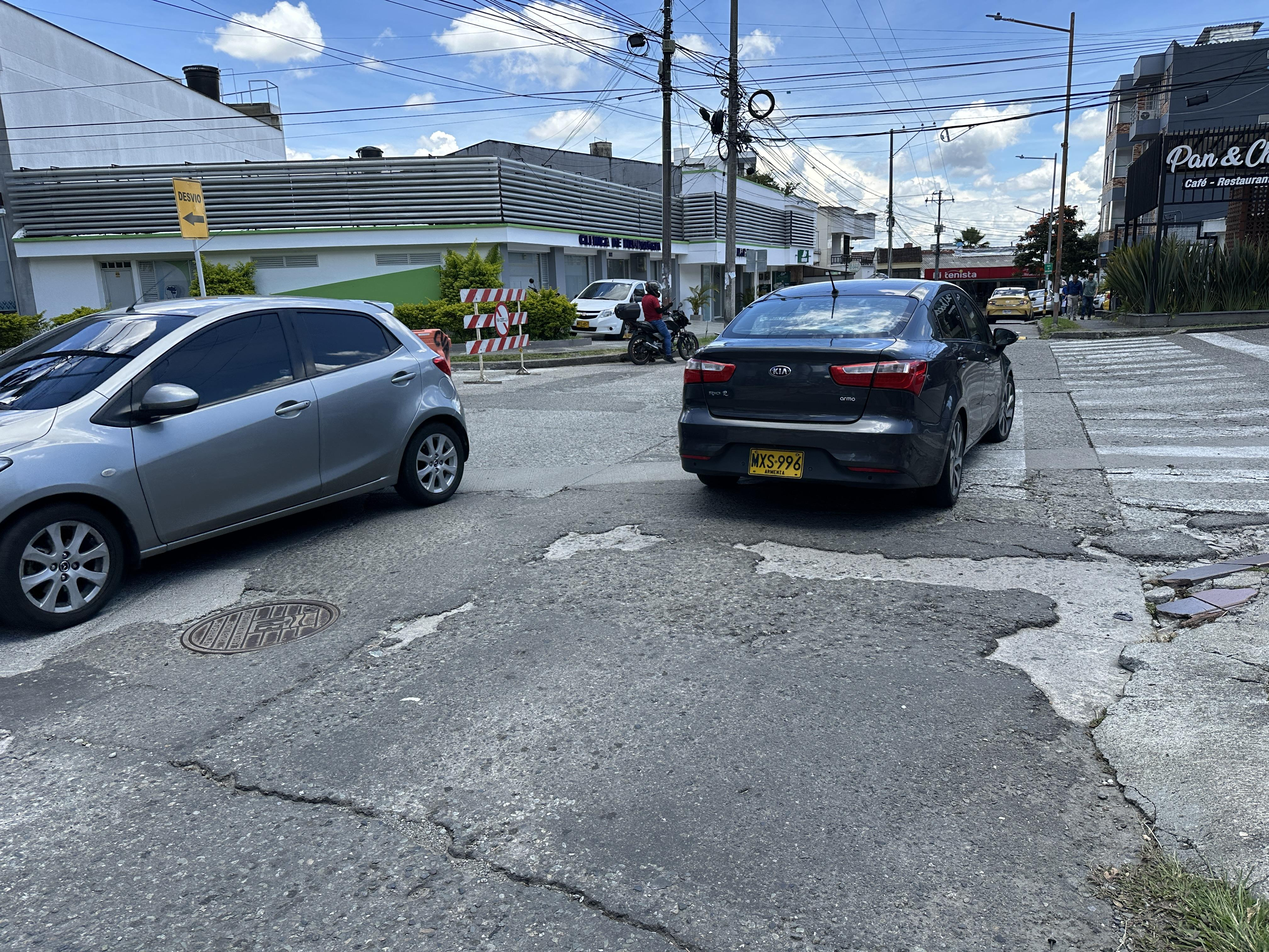bache: (735, 535, 1217, 727), (1126, 505, 1269, 563), (382, 602, 474, 654), (544, 524, 663, 560)
grieta: (169, 759, 706, 952), (1088, 728, 1154, 826), (959, 469, 1058, 528), (1074, 468, 1137, 503), (1151, 464, 1212, 476)
registro: (181, 600, 339, 654)
